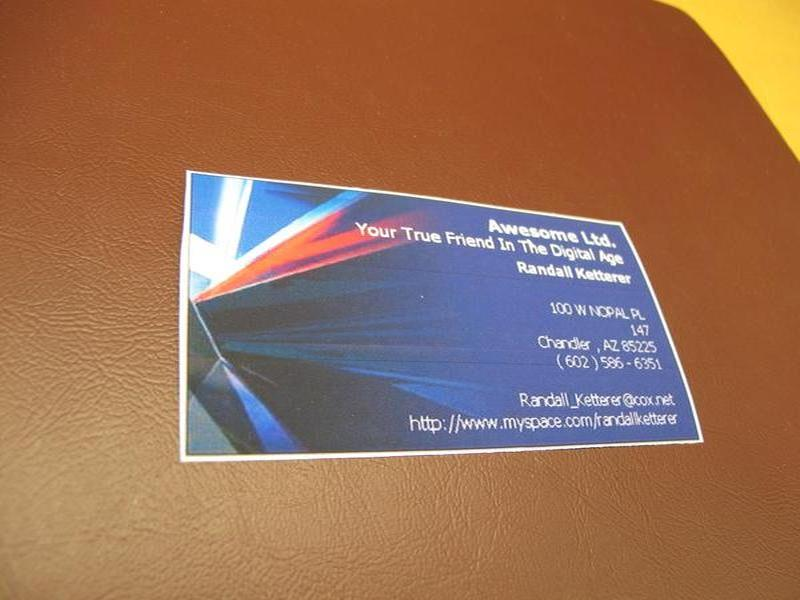card: (181, 170, 703, 465)
